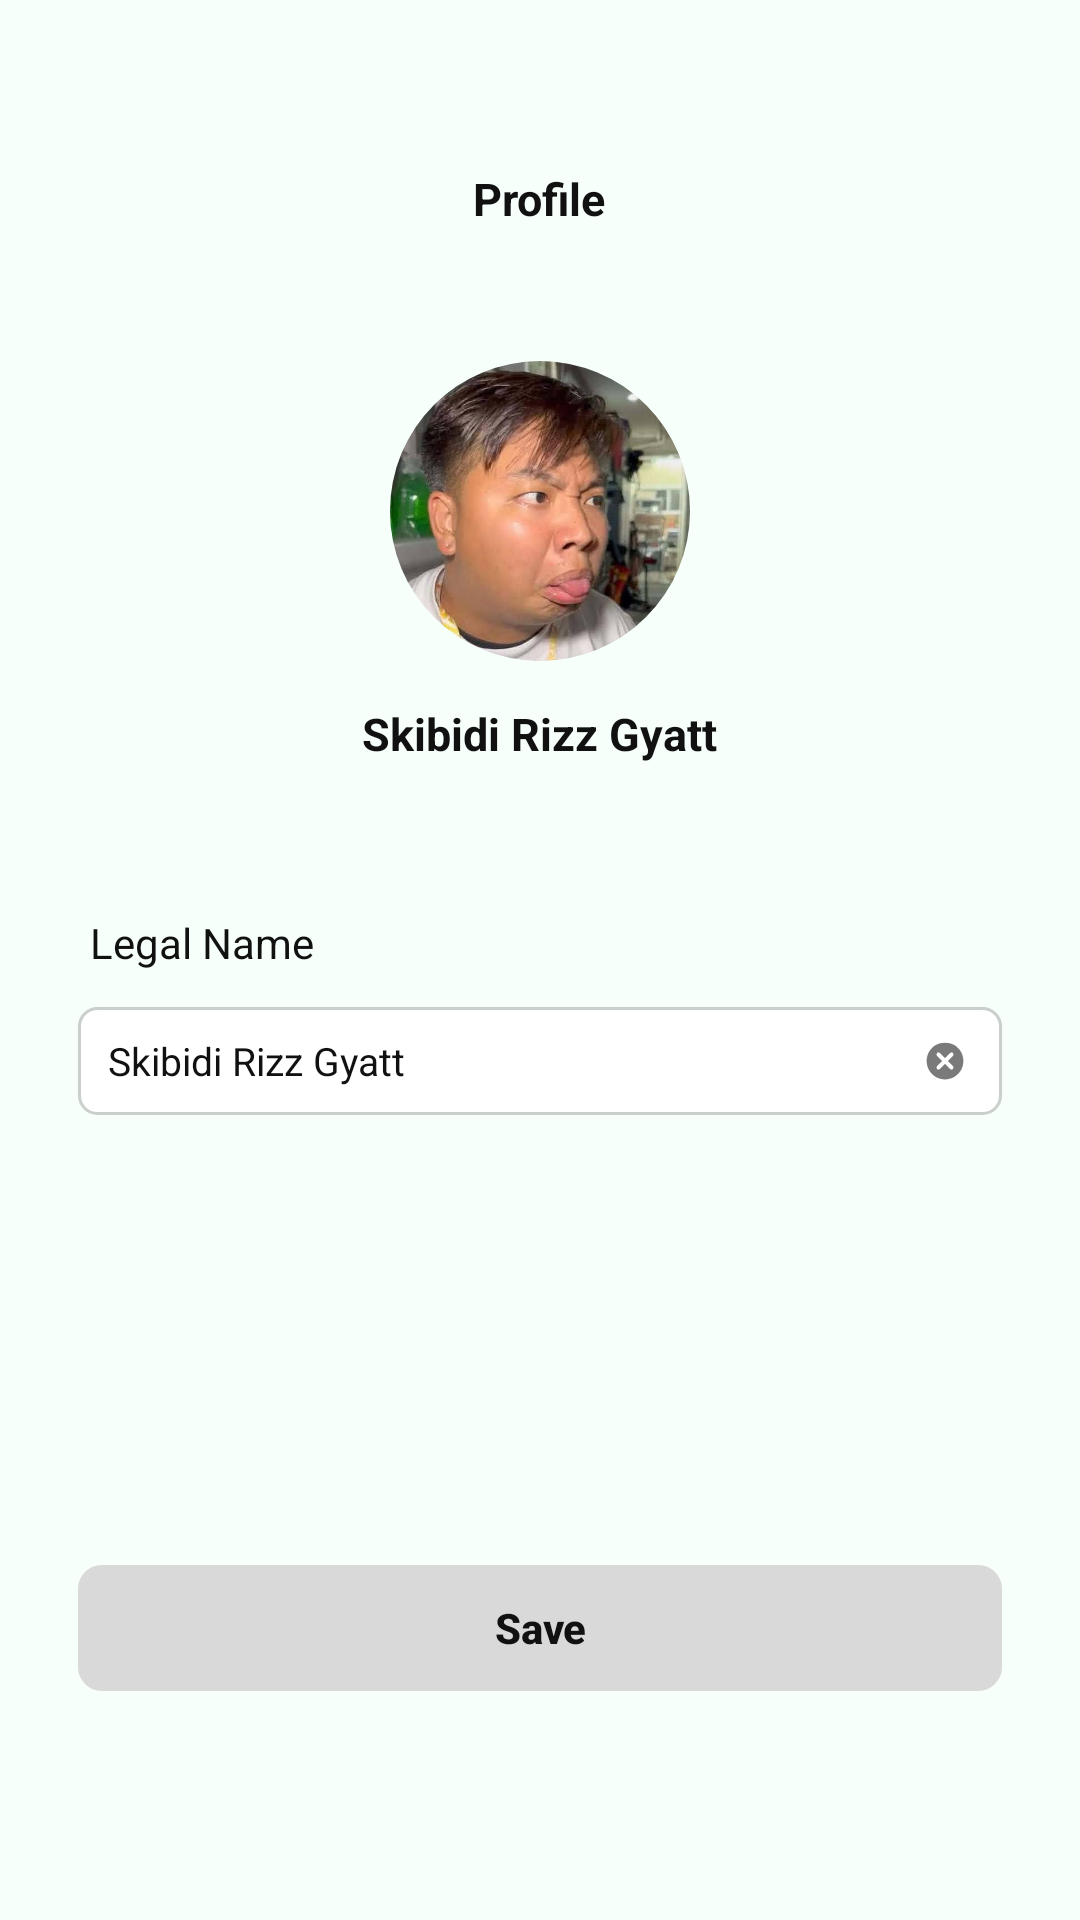

Named icons in this screenshot (1080*1920) and their centers, (x,y):
Clear: (945,1061)
